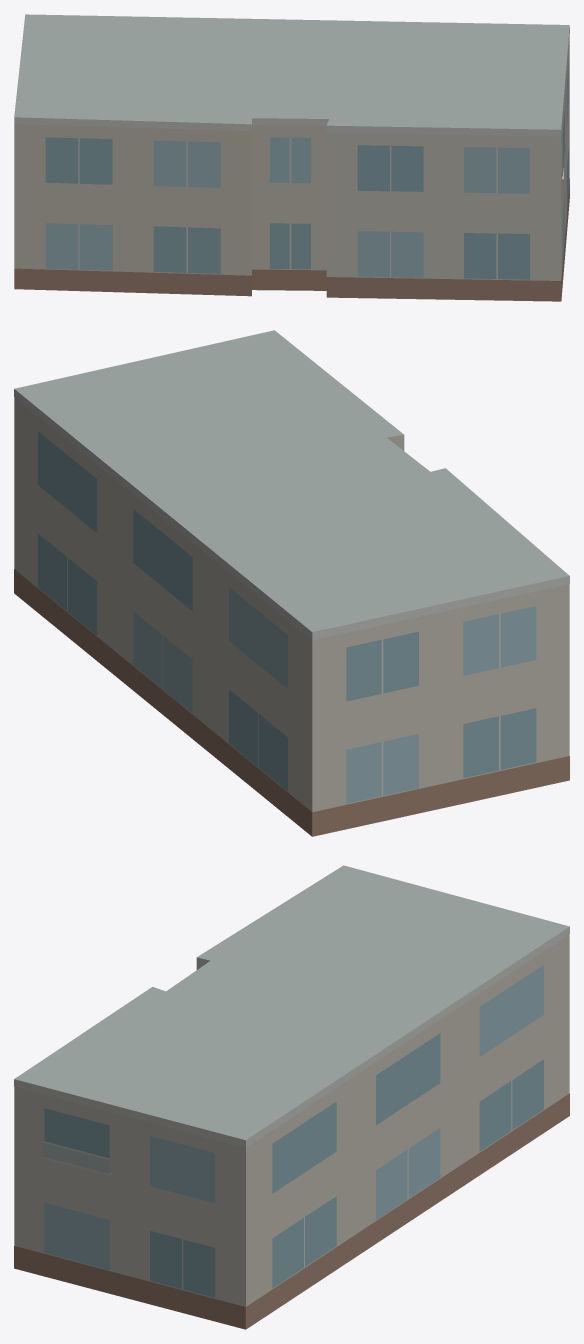
File: survey-upis-32893317.glb
3 renders of one model, top to bottom at view 1: azimuth 30°, elevation 25°; view 2: azimuth 150°, elevation 25°; view 3: azimuth 270°, elevation 25°, orthographic. The views are drawn at different scales.
Parts seen in each view (by area): view 1: survey-upis-32893317.tmp; view 2: survey-upis-32893317.tmp; view 3: survey-upis-32893317.tmp.
Part boxes in pixels (x1=…): survey-upis-32893317.tmp: x1=14, y1=14, x2=569, y2=301; survey-upis-32893317.tmp: x1=14, y1=330, x2=569, y2=836; survey-upis-32893317.tmp: x1=14, y1=865, x2=569, y2=1329.
Size of the model in its own units: 19 by 6.1 by 16.23.
